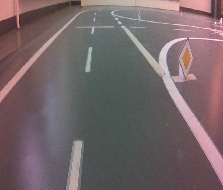priority road sign: (177, 37, 194, 80)
